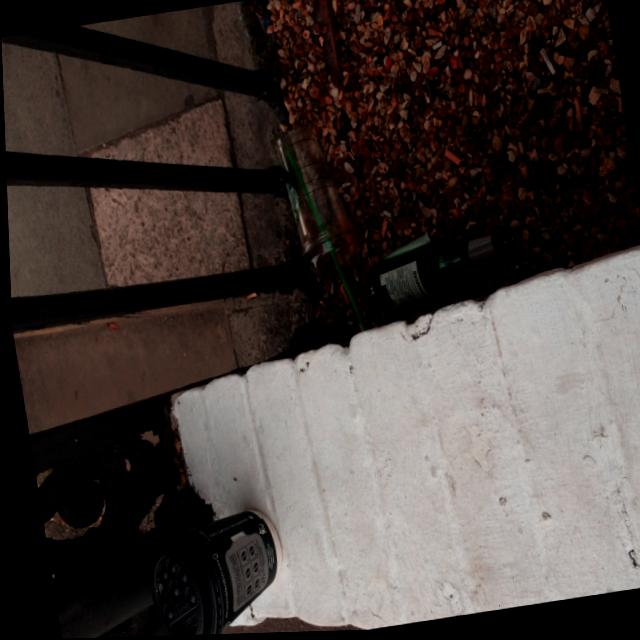Bottle-Glass: (351, 210, 534, 334)
Paper: (167, 484, 305, 636)
Plastic: (261, 103, 378, 346), (127, 515, 235, 637)
